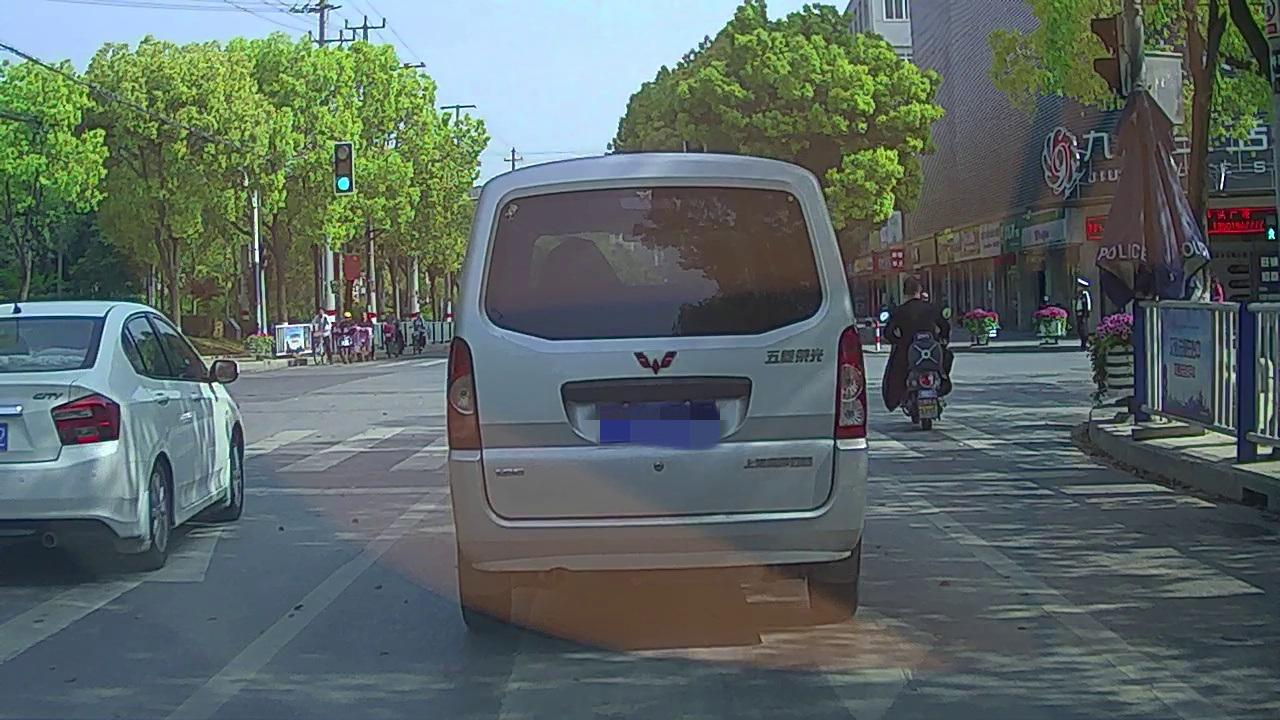traffic_light: (335, 144, 352, 193)
